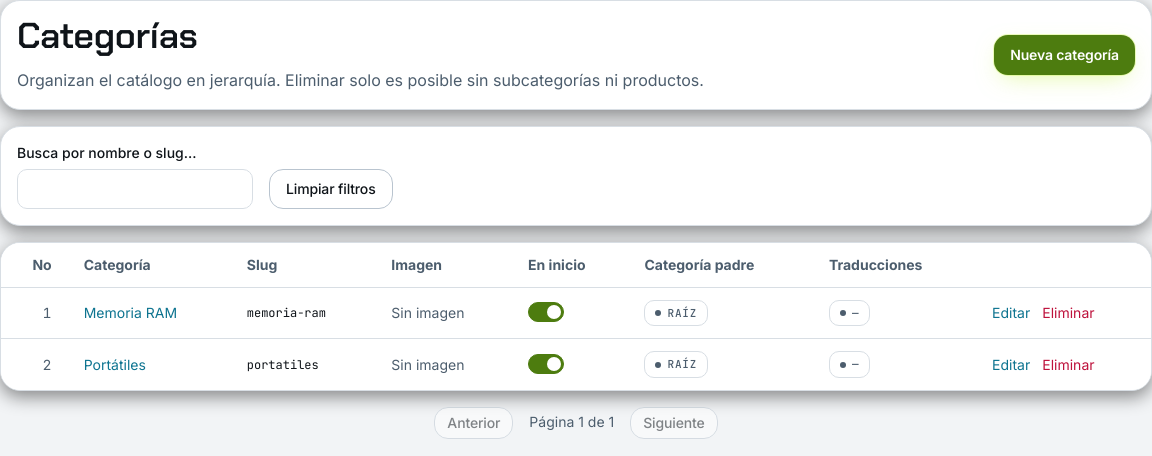
Test: AdminCategoriesView filters › filters by name while typing, like before
Type "ram" into the field labelled "Busca por nombre o slug…" at (135, 189), box left=17, top=169, right=253, bottom=209
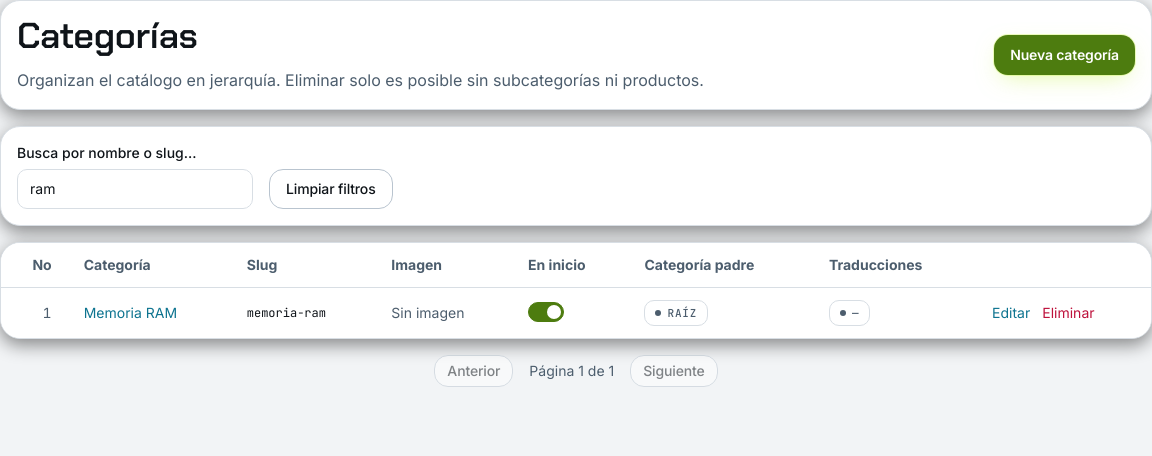
Expected: the link "Memoria RAM" is shown, left=84, top=304, right=177, bottom=321
Expected: the link "Portátiles" is gone
